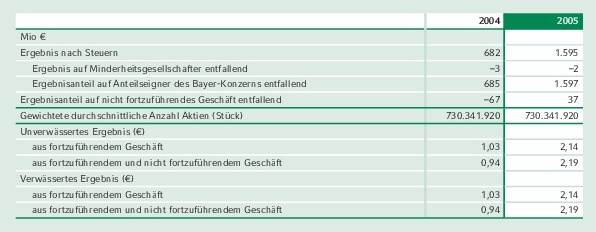table: (0, 0, 596, 232)
